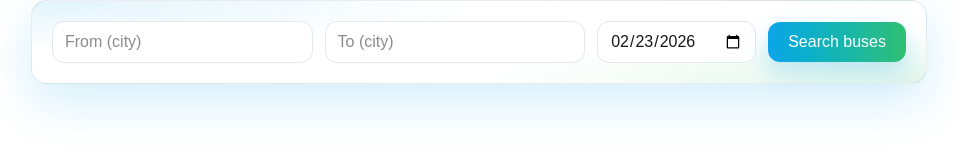
Test case: BannerSearch component › blocks same source and destination
Step 1. Type "Bangalore" into the field named "From city" → (182, 42), box [52,21,313,63]
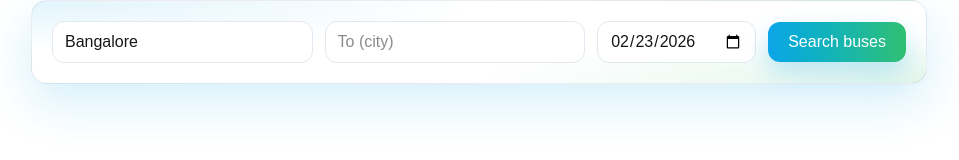
Step 2. Type "Bangalore" into the field named "To city" → (455, 42), box [325,21,585,63]
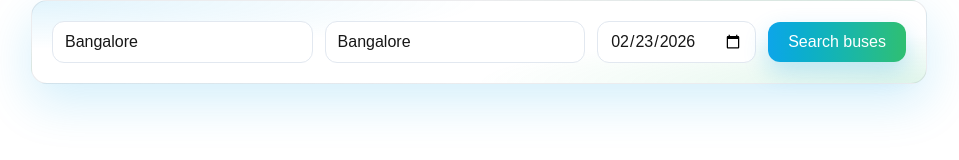
Step 3. Submit the form "Search buses", box [31,0,927,84]
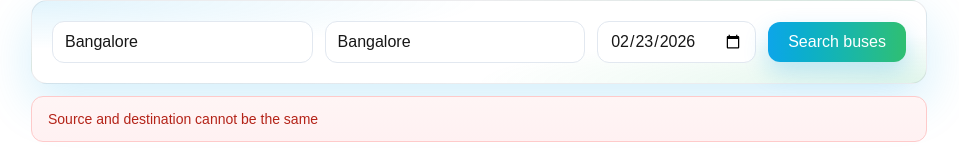
Check: the text "Source and destination cannot be the same" is shown, box [31,96,927,142]
